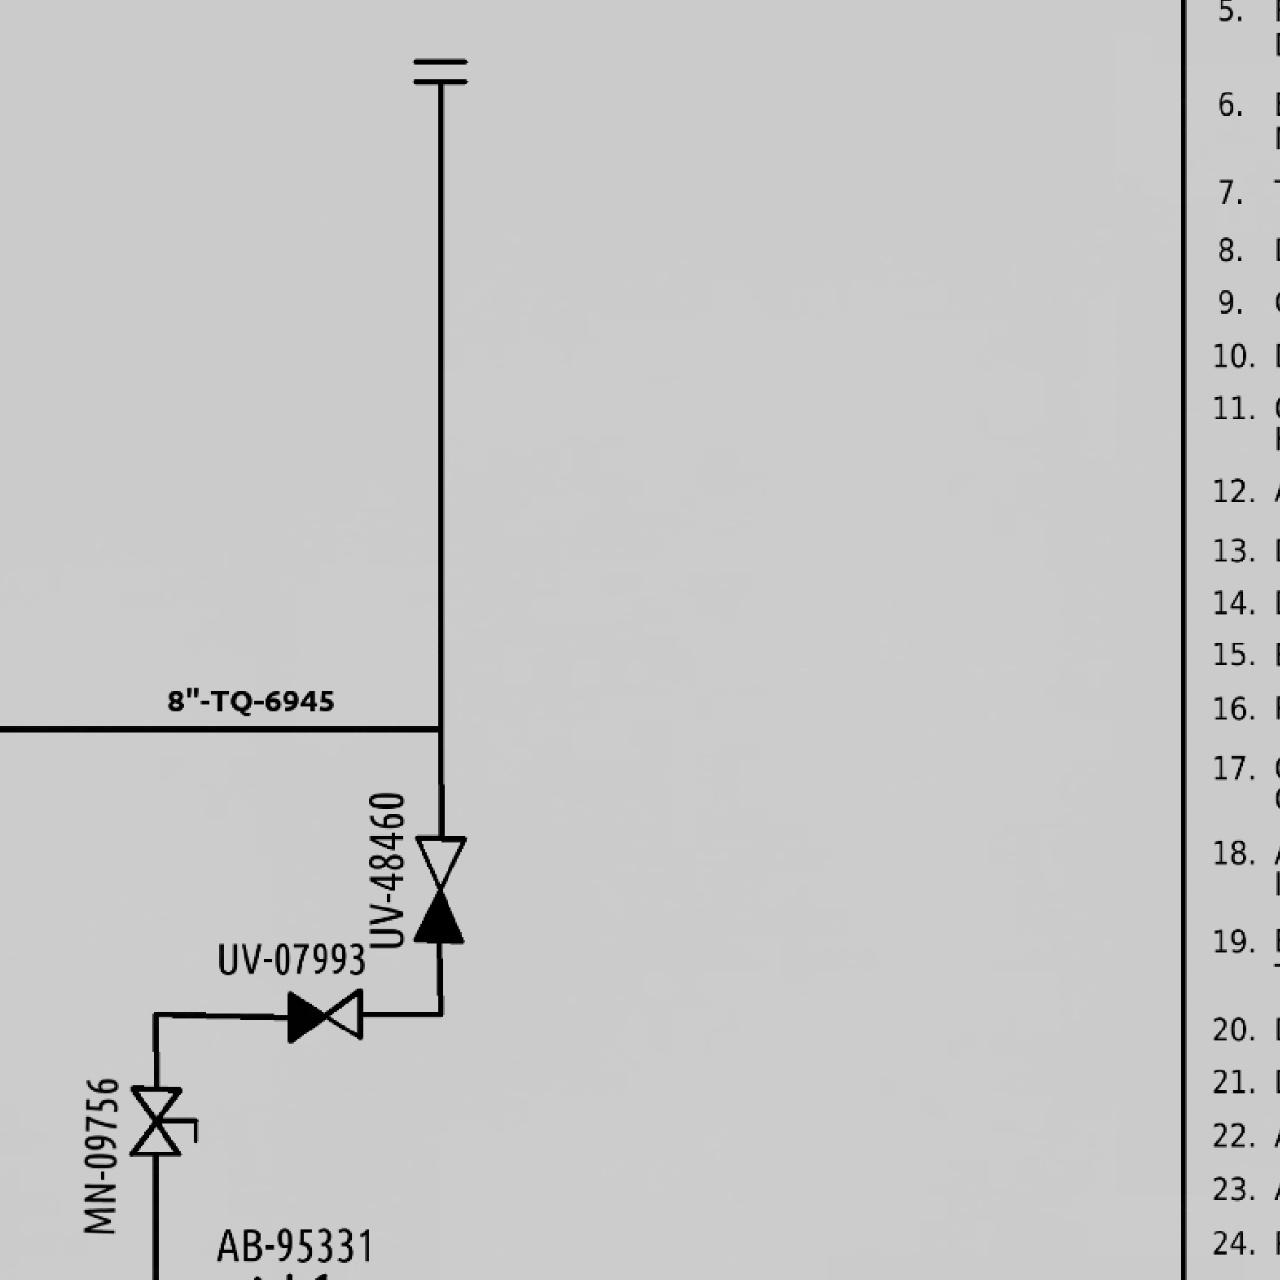Half closed valve: (408, 831, 470, 947), (282, 983, 365, 1046)
